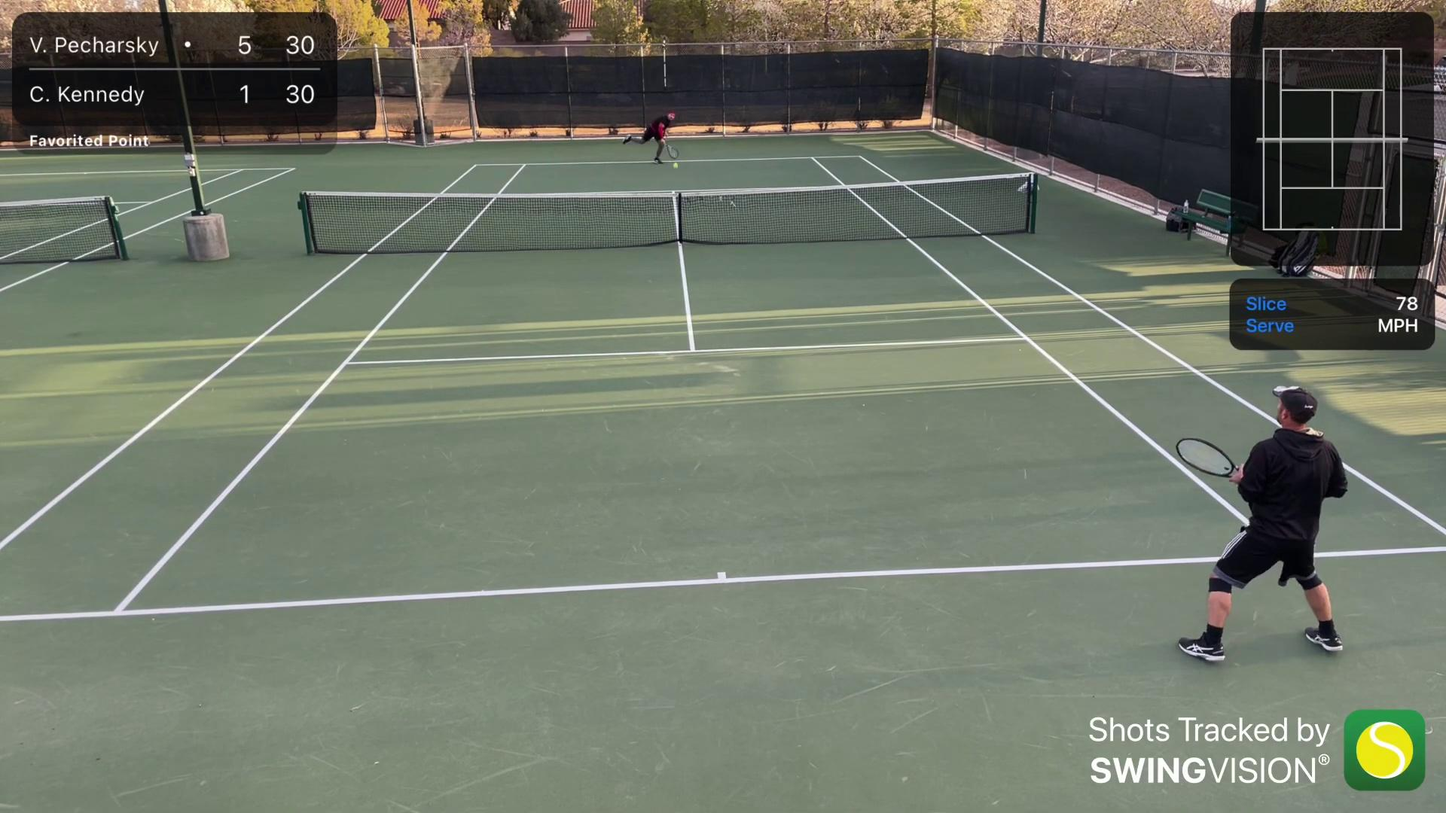ball: (673, 165, 678, 169)
